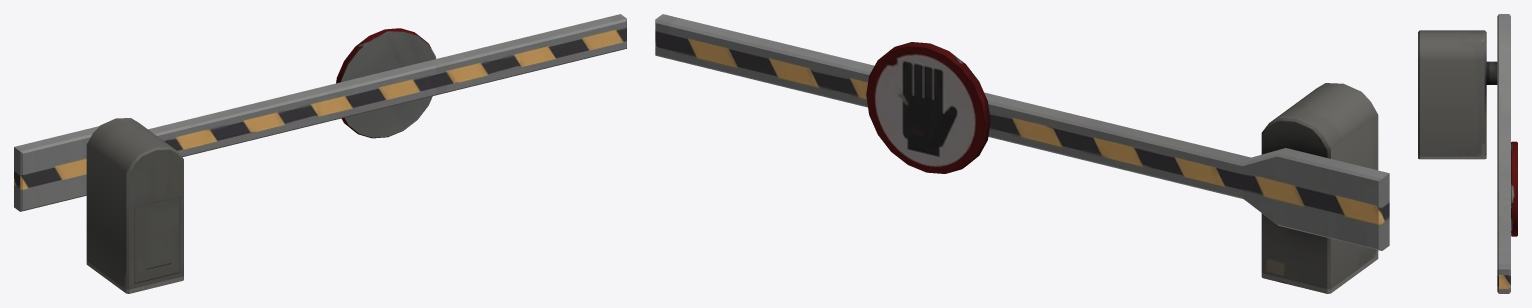
3 views of the same model, side by side, from view 1: azimuth 30°, elevation 25°; view 2: azimuth 150°, elevation 25°; view 3: azimuth 270°, elevation 25° (orthographic). The views are drawn at different scales.
Parts seen in each view (by area): view 1: body0_model0_lod0_mesh0; view 2: body0_model0_lod0_mesh0; view 3: body0_model0_lod0_mesh0.
Part boxes in pixels (box(x1,y1,x2,y2)): body0_model0_lod0_mesh0: box(14, 14, 626, 293); body0_model0_lod0_mesh0: box(655, 14, 1389, 293); body0_model0_lod0_mesh0: box(1418, 14, 1517, 293).
Bounding box in the file's own units: 21 × 4.74 × 3.65.
1 material, 1 textured.
